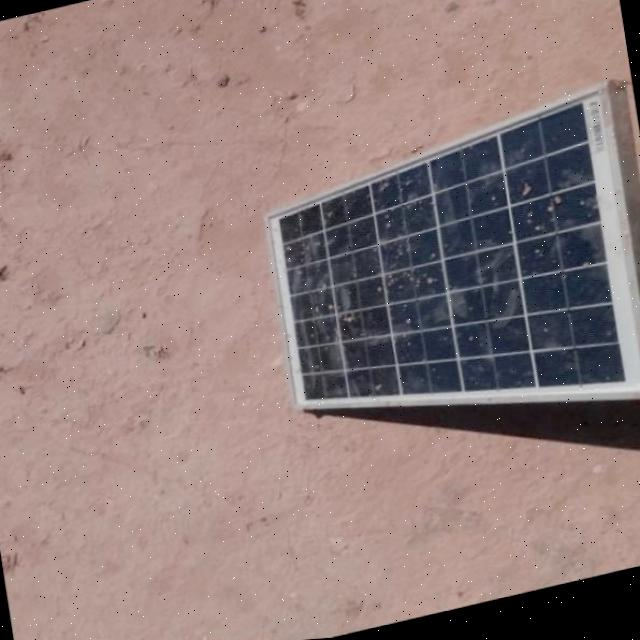Anomaly Solar Panel: (272, 98, 640, 415)
Surface Contaminant: (274, 172, 460, 422), (454, 144, 620, 384)
